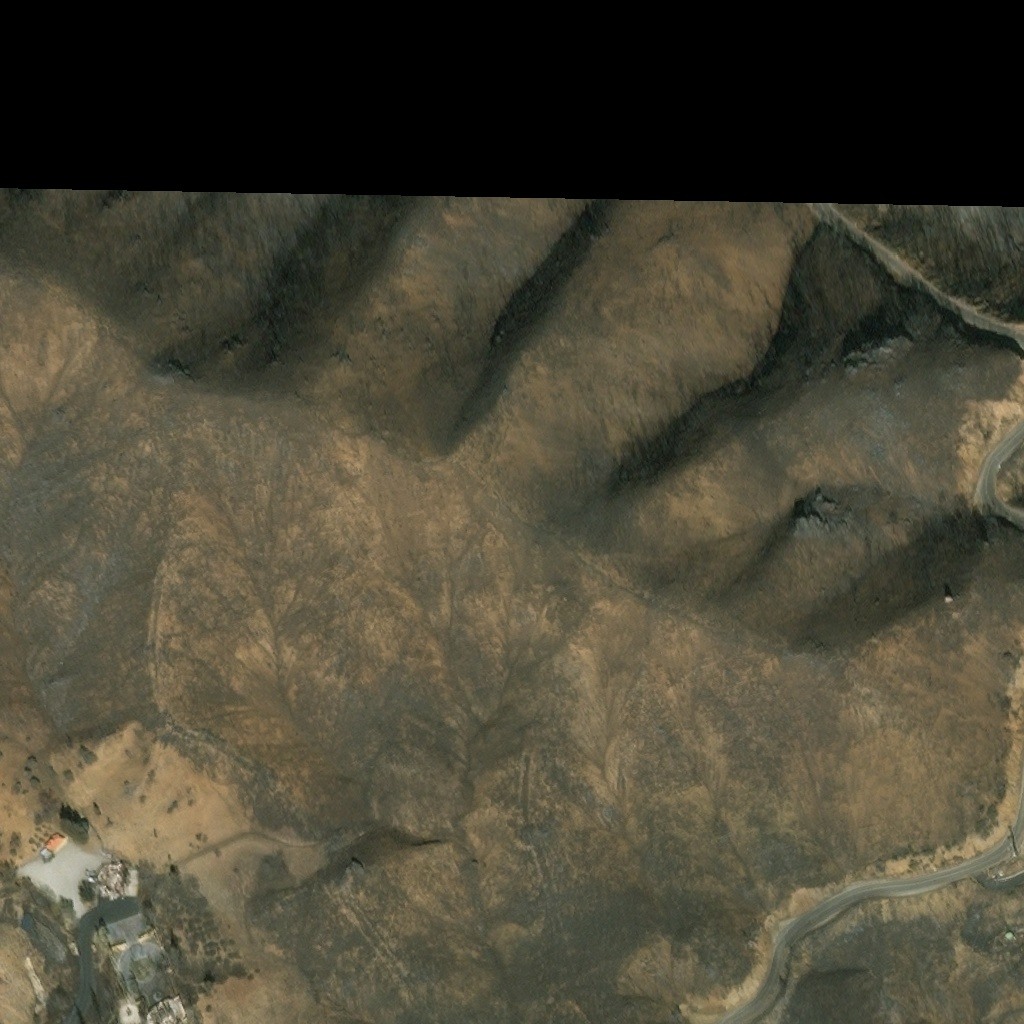0 no-damage: (40, 831, 67, 861)
3 destroyed: (19, 914, 66, 958), (127, 995, 189, 1023), (105, 911, 147, 944), (99, 857, 123, 889)
